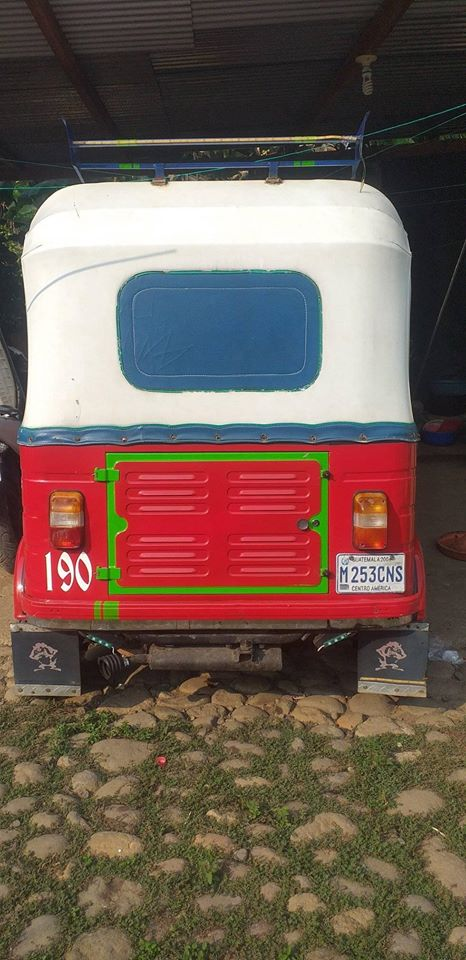mototaxi: (7, 176, 440, 706)
